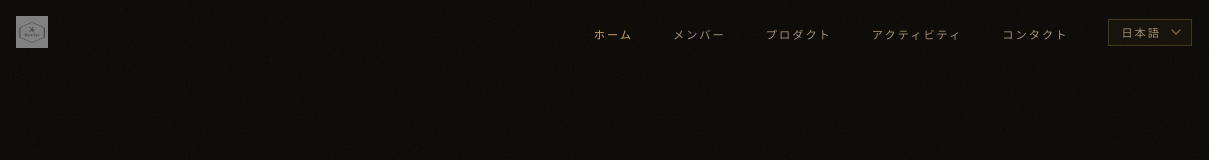
Test case: Header › toggles locale to English on click
Click the button with aria-label "言語を切り替える". click: (1150, 32)
box: [1108, 18, 1192, 46]
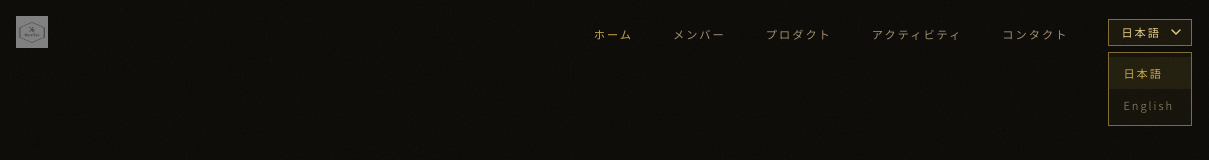
Click the option "English". click: (1149, 104)
box: [1123, 96, 1174, 112]
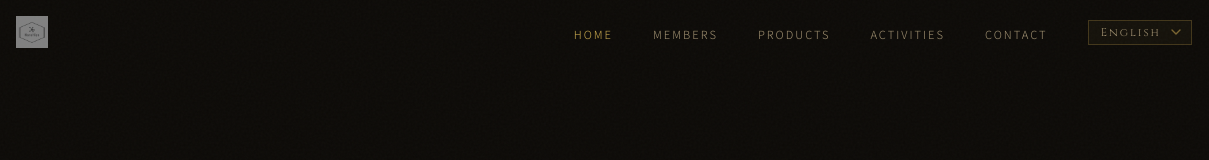
Expected: the link "Products" is shown, [758, 26, 830, 42]
Now the link "Home" is shown, box [574, 26, 613, 42]
